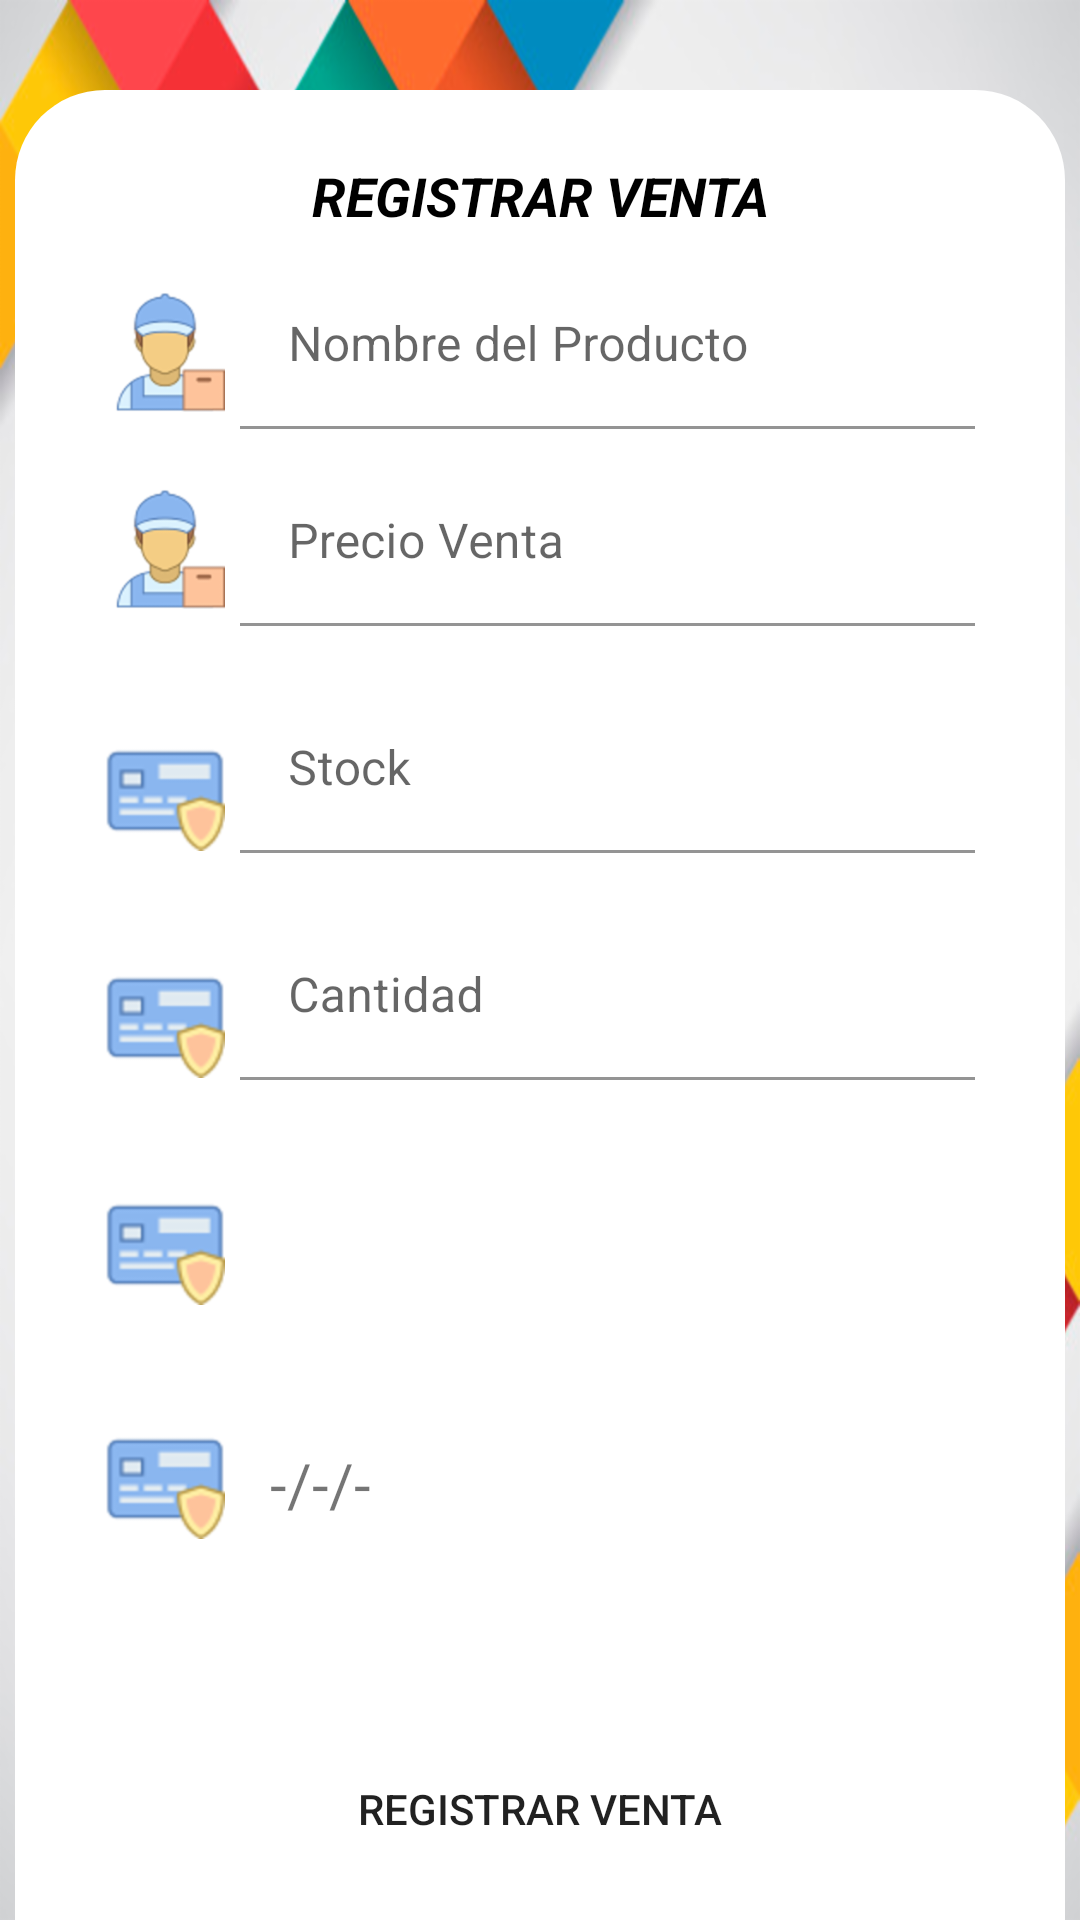

Locate icon controls on the screen. Image size 1080 × 1920, boxes as region(x1, y1, x2, y2).
card: region(107, 750, 225, 851), region(107, 977, 225, 1078), region(107, 1204, 225, 1305), region(107, 1438, 225, 1539)
proveeddor: region(116, 293, 225, 411), region(116, 490, 225, 608)
